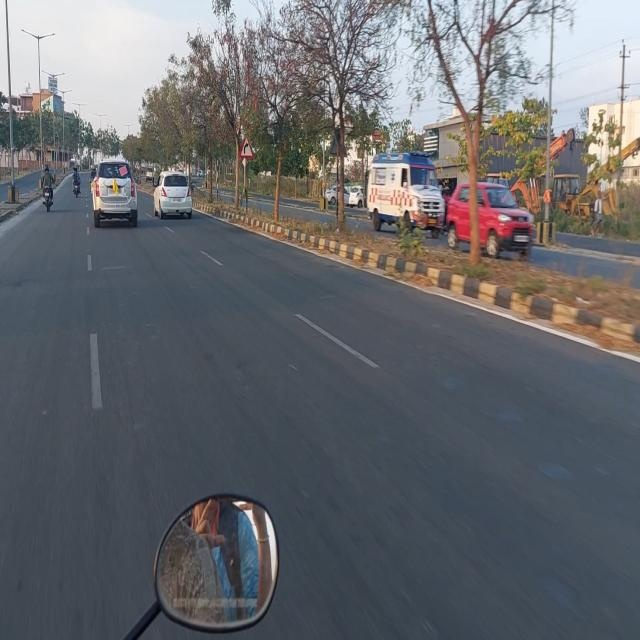bien_nguy_hiem: (240, 133, 253, 161)
